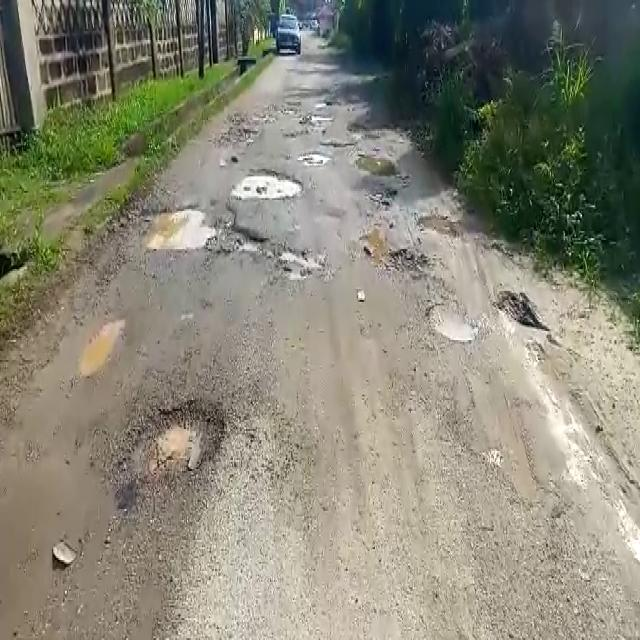Pothole: (121, 396, 233, 495), (233, 222, 328, 279), (144, 206, 219, 252), (228, 166, 306, 199), (426, 300, 480, 344), (297, 150, 333, 163)
